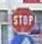stop: (10, 6, 36, 32)
